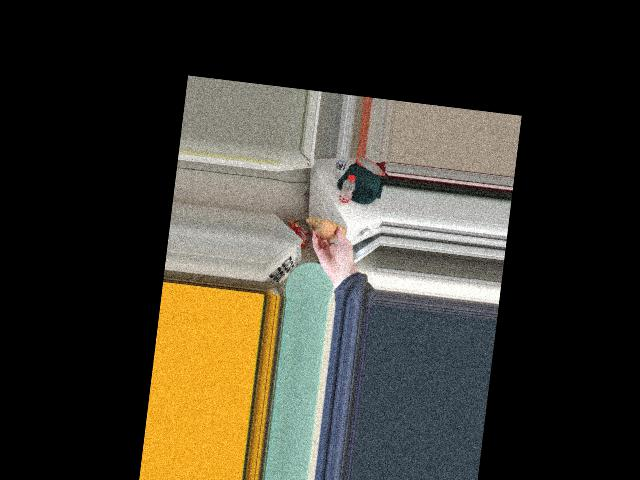sweet_potato: (312, 217, 345, 239)
